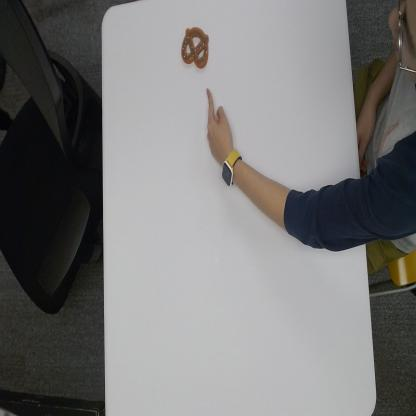Arm: (242, 133, 416, 254)
Hand: (204, 86, 232, 152)
Pretzel: (181, 24, 210, 70)
